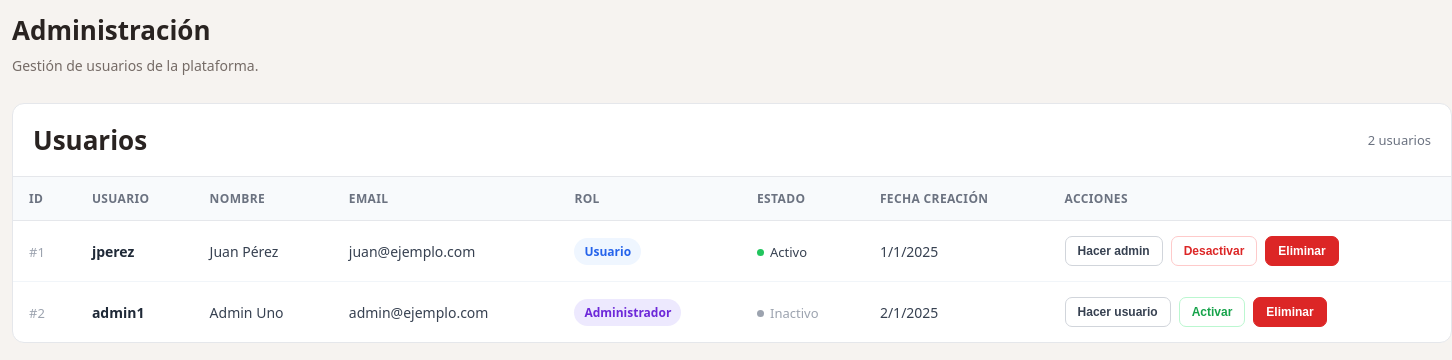
Scenario: Administracion › cambia el rol del usuario cuando se confirma la acción
Expected: the text "jperez" is shown, [92,242,134,260]
Click the button "Hacer admin" at (1114, 251), box [1065,236,1163,266]
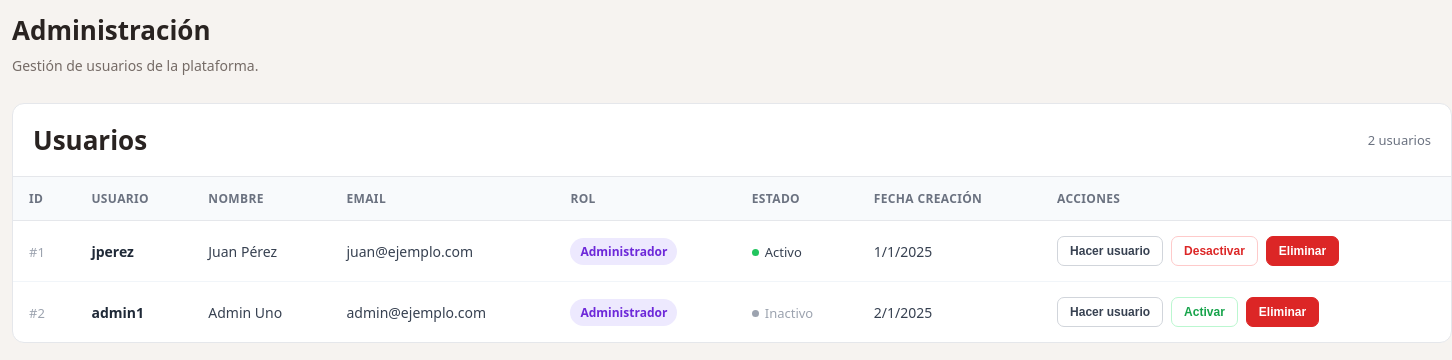
Expected: the text "Administrador" in the row of "jperez" is shown, [580,242,667,260]
